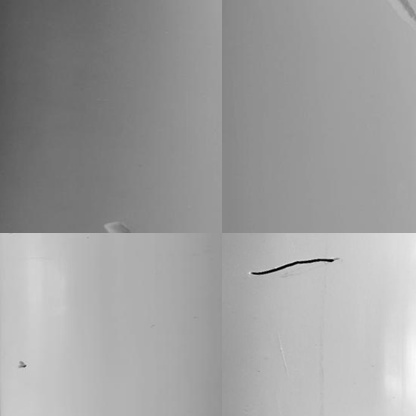fengxi: (244, 255, 343, 281)
sunshang: (388, 1, 414, 28), (104, 217, 130, 235)
